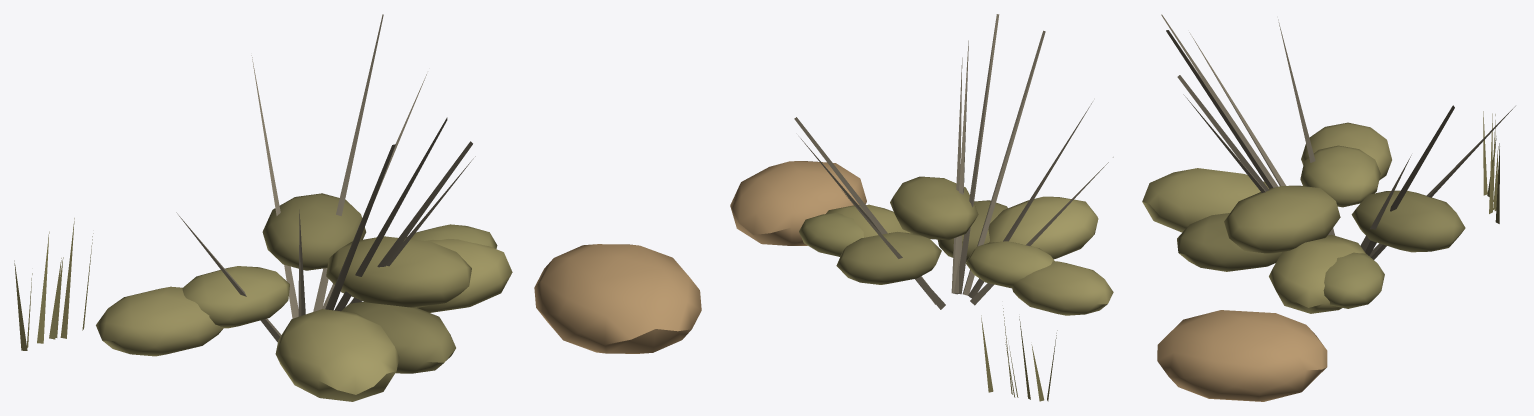
File: desert_scrub_c_lod1.glb
3 renders of one model, left to right at view 1: azimuth 30°, elevation 25°; view 2: azimuth 150°, elevation 25°; view 3: azimuth 270°, elevation 25°, orthographic. The views are drawn at different scales.
Visible parts, largest first — view 1: Surface.001; view 2: Surface.001; view 3: Surface.001.
Boxes of the visible parts, x1,y1,x2,y2 form: Surface.001: (14, 14, 701, 401); Surface.001: (730, 14, 1113, 401); Surface.001: (1142, 14, 1515, 401).
Bounding box in the file's own units: 4.08 × 2.21 × 2.79.
